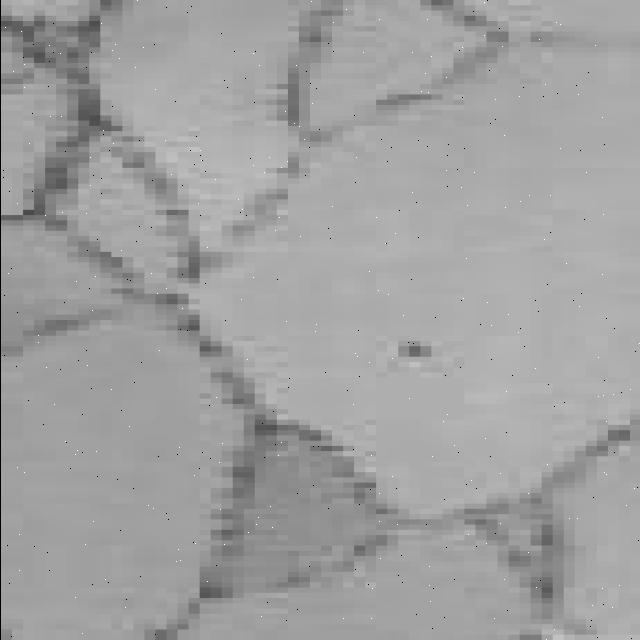good_void: (374, 334, 465, 372)
